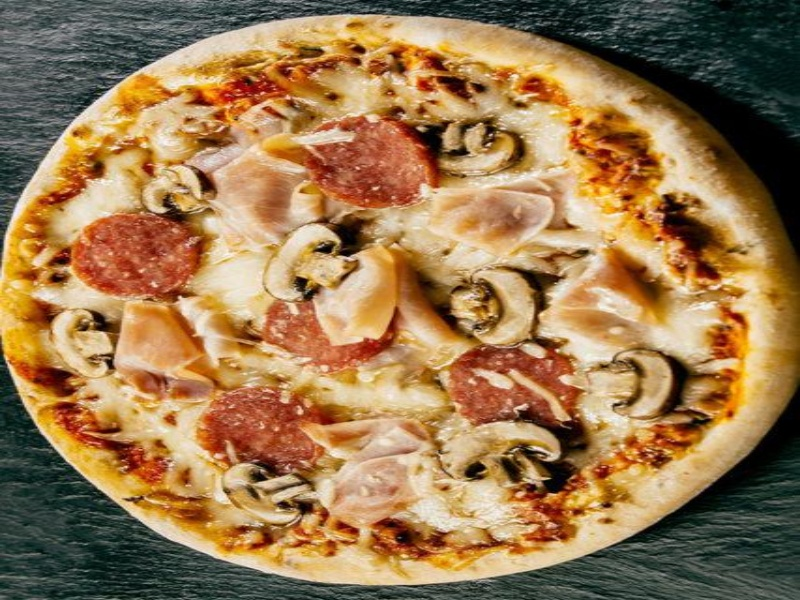champignon: (438, 261, 545, 357), (435, 416, 567, 492), (258, 220, 362, 306), (584, 342, 680, 424), (216, 463, 324, 530), (439, 111, 529, 186), (46, 303, 119, 386), (136, 163, 219, 221)
